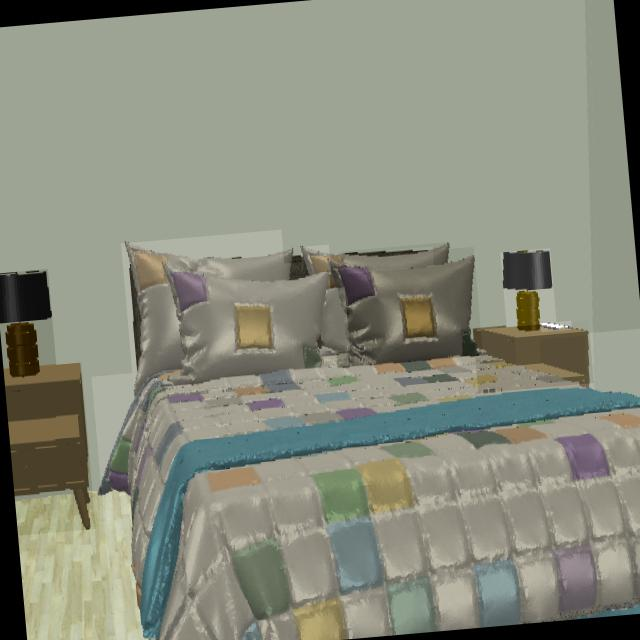bed: (101, 355, 640, 640)
book: (540, 324, 570, 331)
lamp: (0, 273, 52, 377), (503, 250, 553, 333)
nighttable: (4, 362, 90, 528), (473, 330, 591, 383)
pillow: (126, 243, 286, 398), (171, 272, 329, 383), (329, 256, 478, 364), (342, 242, 451, 271), (321, 288, 349, 350), (344, 252, 433, 270), (301, 247, 331, 275)
